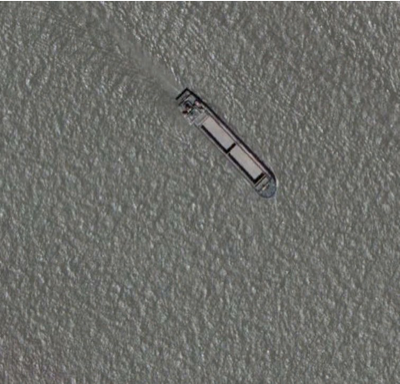boat: (173, 84, 278, 198)
